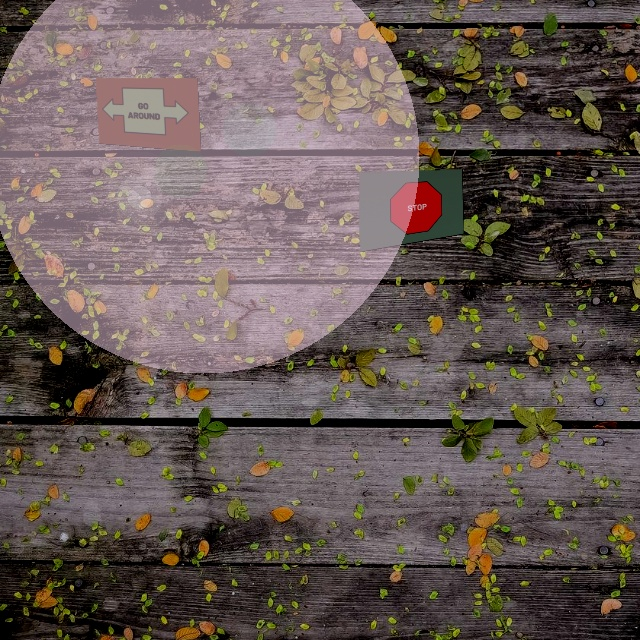GO_AROUND: (101, 87, 190, 137)
STOP: (385, 180, 447, 237)
